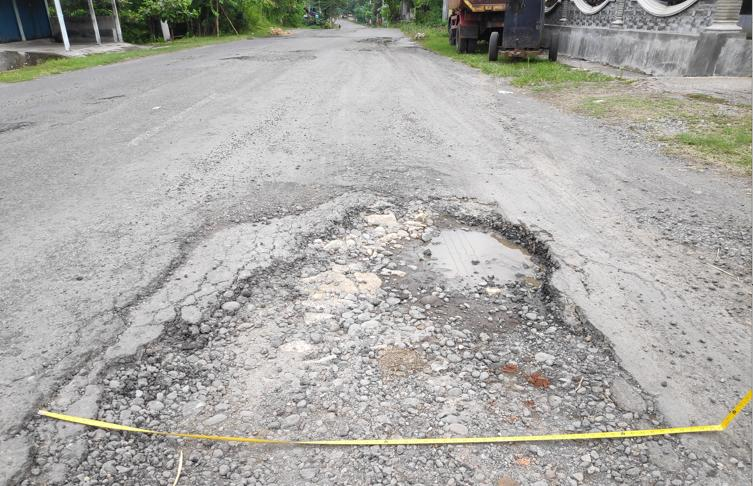Pothole: (0, 203, 753, 486)
